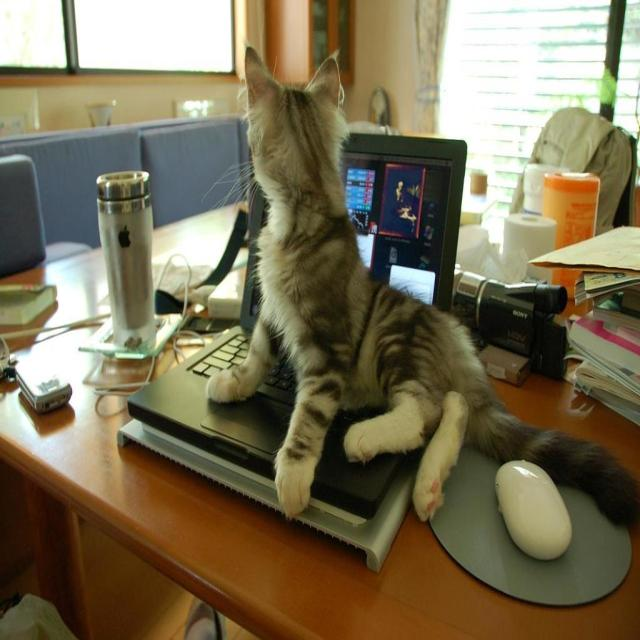Mobile-phone: (12, 345, 74, 417), (182, 314, 239, 336)
